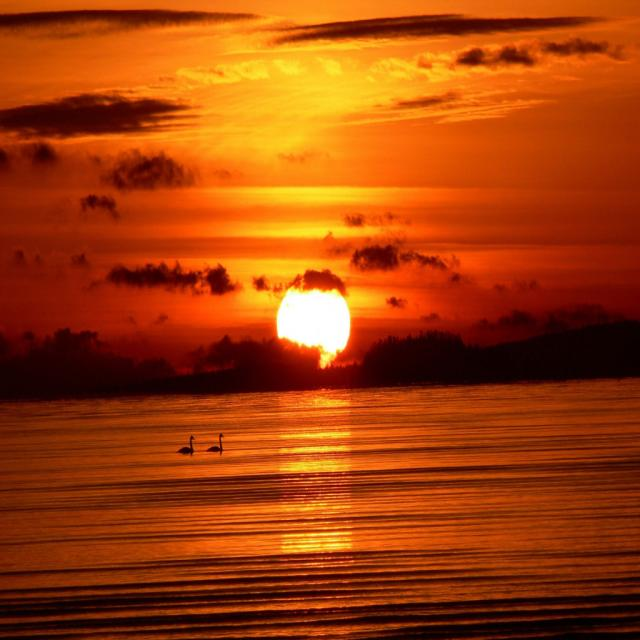no_fire: (71, 122, 602, 617)
